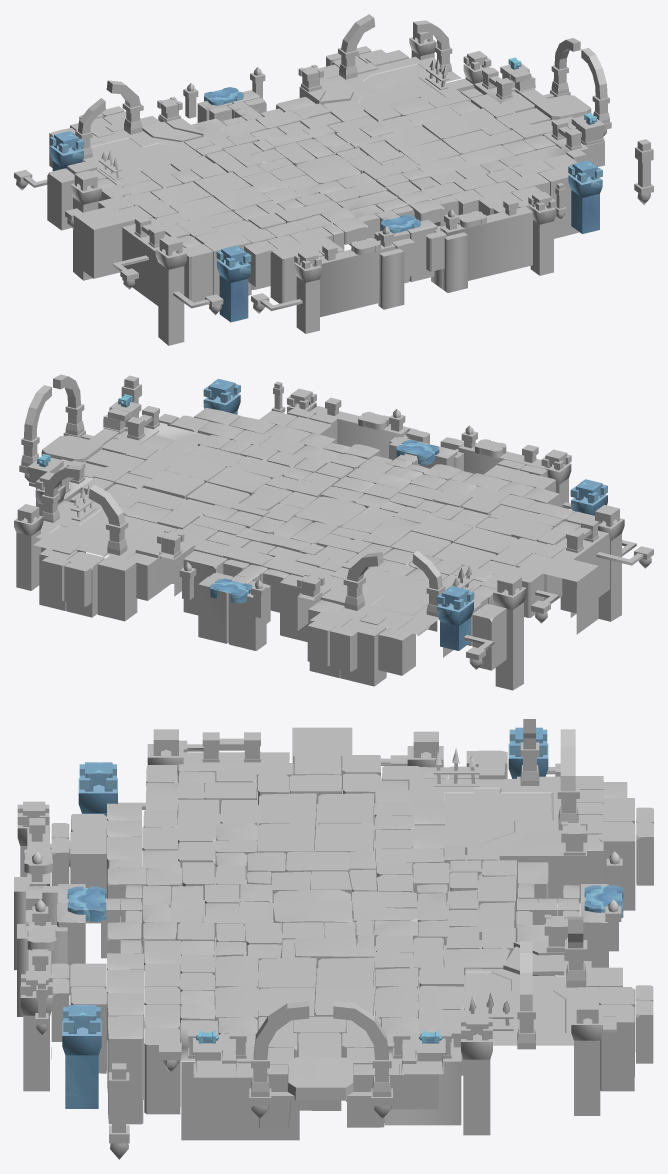
3 renders of one model, top to bottom at view 1: azimuth 30°, elevation 25°; view 2: azimuth 150°, elevation 25°; view 3: azimuth 270°, elevation 25°, orthographic. The views are drawn at different scales.
Visible parts, largest first — view 1: an01, an02, stone01; view 2: an01, an02; view 3: an01, an02, stone01.
Part boxes in pixels (x1,y1,x2,y2): an01: (14, 14, 611, 345); an02: (49, 57, 602, 322); stone01: (634, 139, 653, 204); an01: (14, 374, 653, 690); an02: (37, 378, 607, 650); an01: (14, 719, 653, 1140); an02: (62, 727, 623, 1108); stone01: (108, 1063, 129, 1159).
Size of the model in its own units: 3466 by 924 by 2534.
